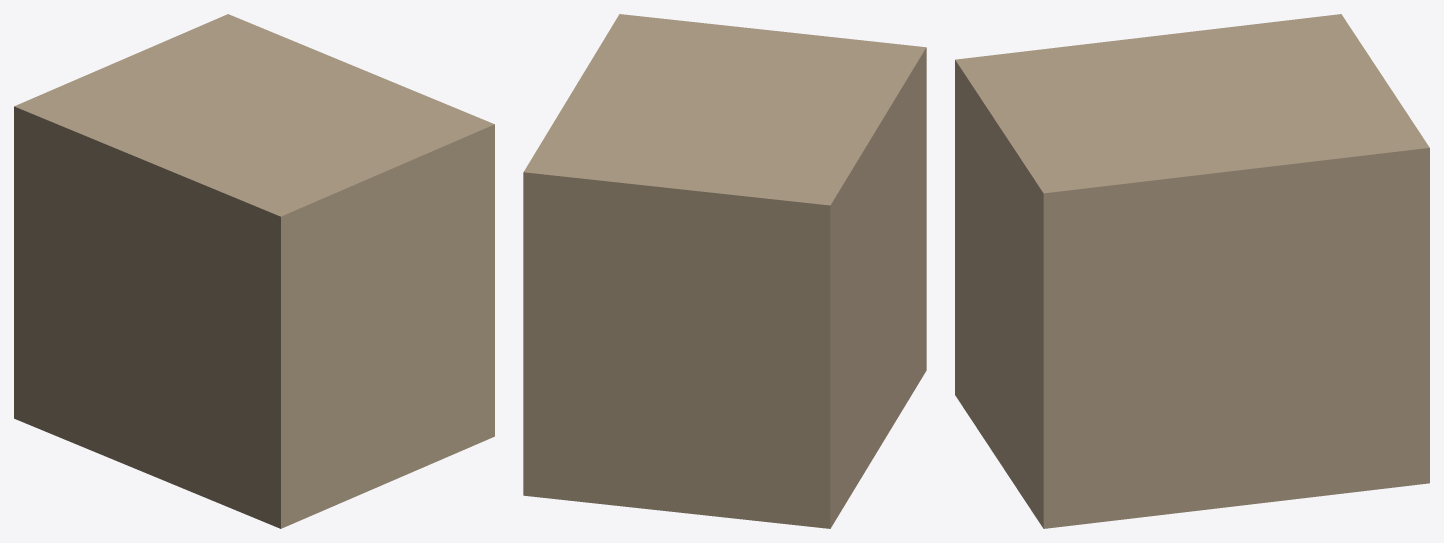
File: bld_105794067.dae
3 renders of one model, left to right at view 1: azimuth 30°, elevation 25°; view 2: azimuth 150°, elevation 25°; view 3: azimuth 270°, elevation 25°, orthographic. The views are drawn at different scales.
Parts seen in each view (by area): view 1: bld_105794067; view 2: bld_105794067; view 3: bld_105794067.
Boxes of the visible parts, x1,y1,x2,y2 form: bld_105794067: (14,14,494,528); bld_105794067: (523,14,926,528); bld_105794067: (955,14,1429,528).
Size of the model in its own units: 9.17 by 10.26 by 8.
